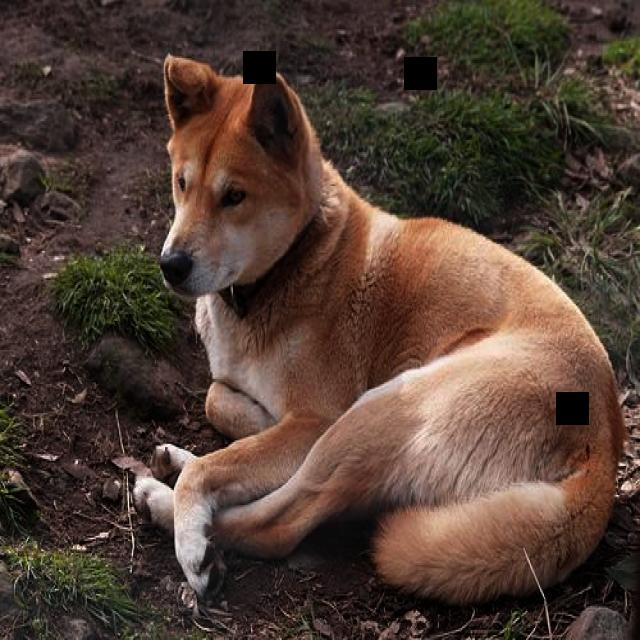adult_dog: (138, 46, 629, 615)
